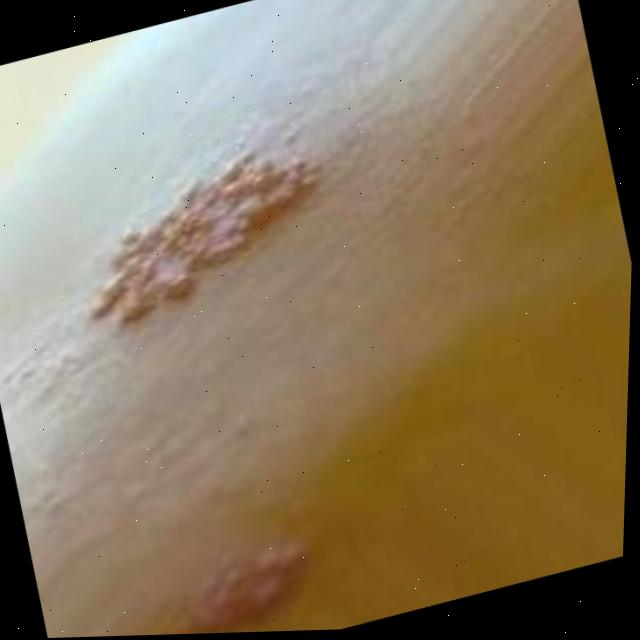Shingles: (71, 122, 356, 338), (177, 525, 324, 634)
